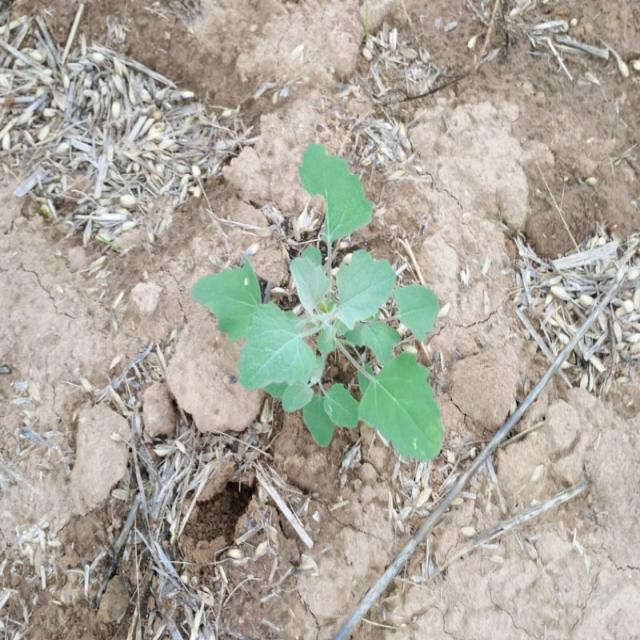goosefoots: (228, 160, 462, 464)
